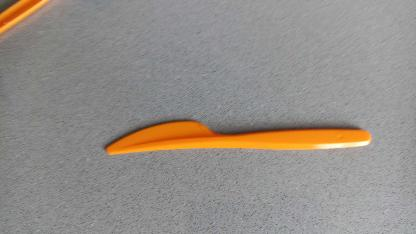Others: (105, 119, 373, 163)
